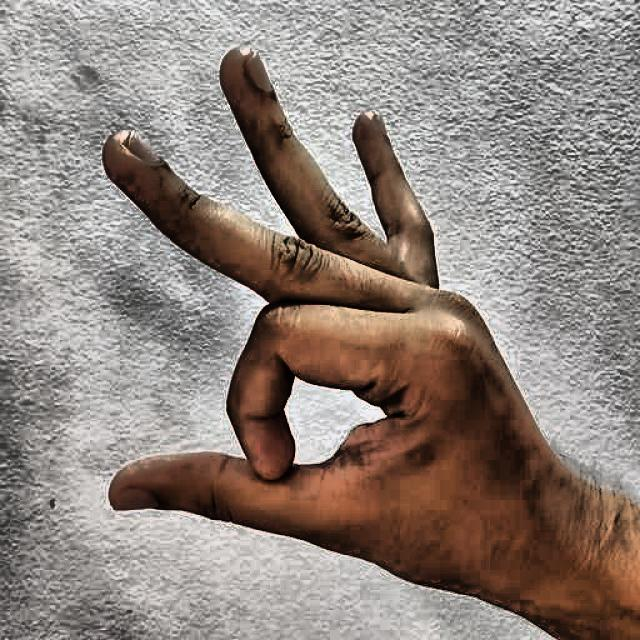Uo: (52, 24, 592, 619)
